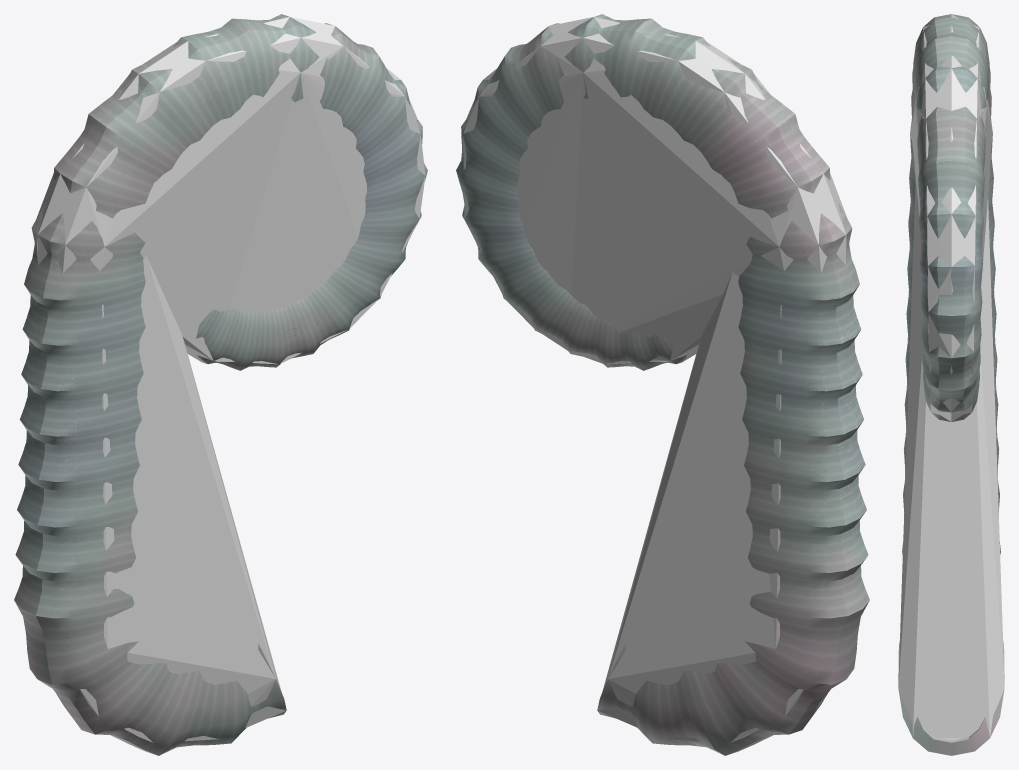
Rendered from shell_1.glb.
3 renders of one model, left to right at view 1: azimuth 30°, elevation 25°; view 2: azimuth 150°, elevation 25°; view 3: azimuth 270°, elevation 25°, orthographic.
Parts seen in each view (by area): view 1: shell_1, shell_1_hull_a_col, shell_1_hull_b_col; view 2: shell_1, shell_1_hull_a_col, shell_1_hull_b_col; view 3: shell_1_hull_b_col, shell_1, shell_1_hull_a_col.
Boxes of the visible parts, x1,y1,x2,y2 form: shell_1: (14, 14, 427, 755); shell_1_hull_a_col: (37, 17, 425, 364); shell_1_hull_b_col: (56, 256, 286, 743); shell_1: (456, 14, 869, 755); shell_1_hull_a_col: (463, 17, 846, 364); shell_1_hull_b_col: (597, 272, 827, 743); shell_1_hull_b_col: (898, 178, 1004, 740); shell_1: (898, 14, 1004, 755); shell_1_hull_a_col: (910, 14, 992, 421).
Size of the model in its own units: 10.63 by 18 by 2.41.
2 materials, 2 textured.
